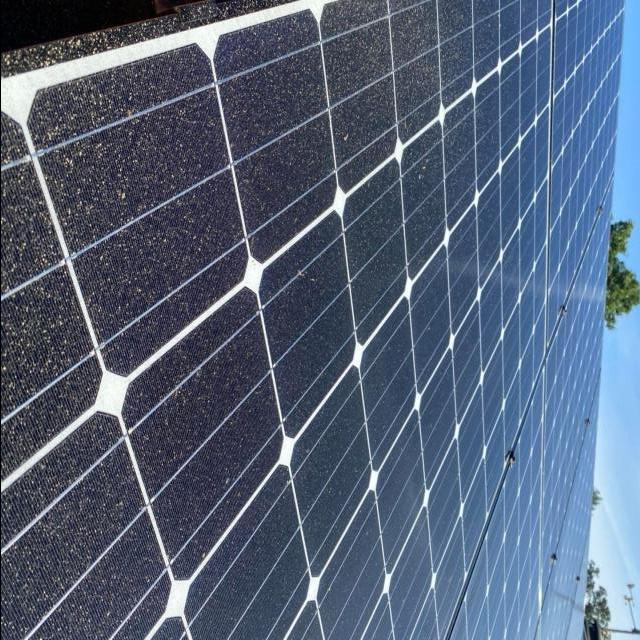soiled: (0, 7, 554, 636)
